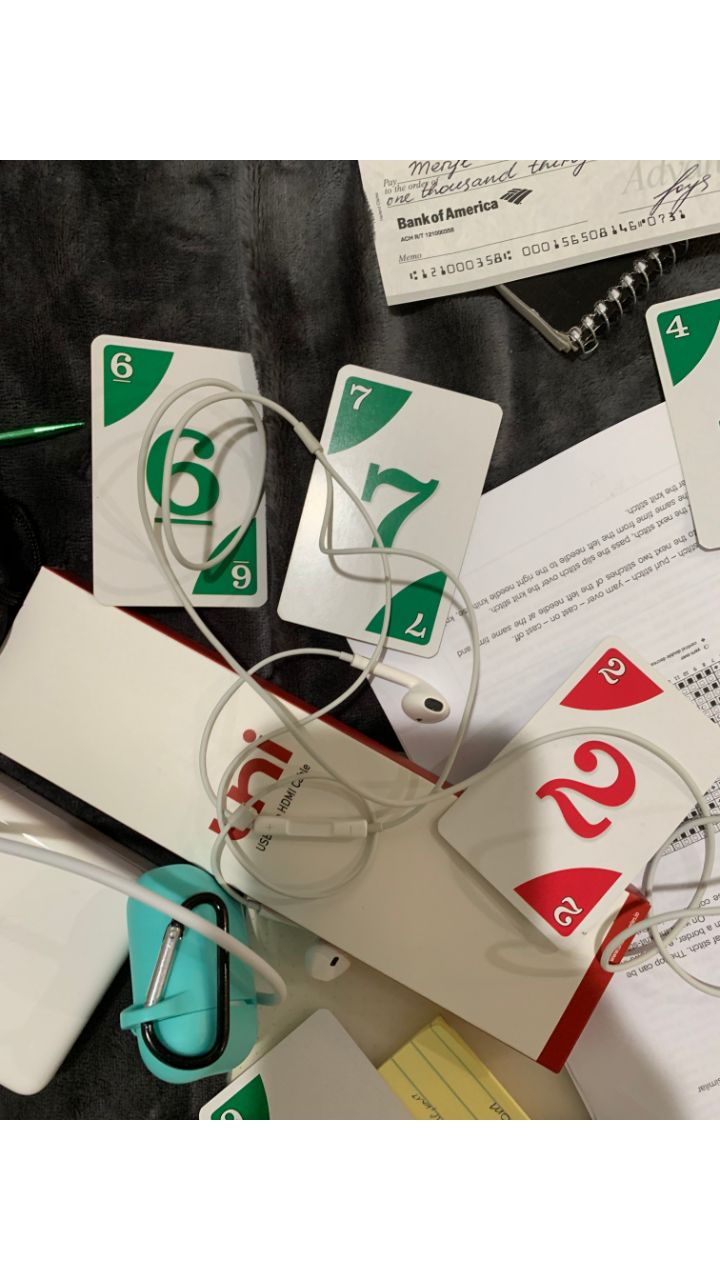seven: (276, 368, 504, 657)
six: (90, 332, 268, 612)
two: (440, 647, 718, 952)
